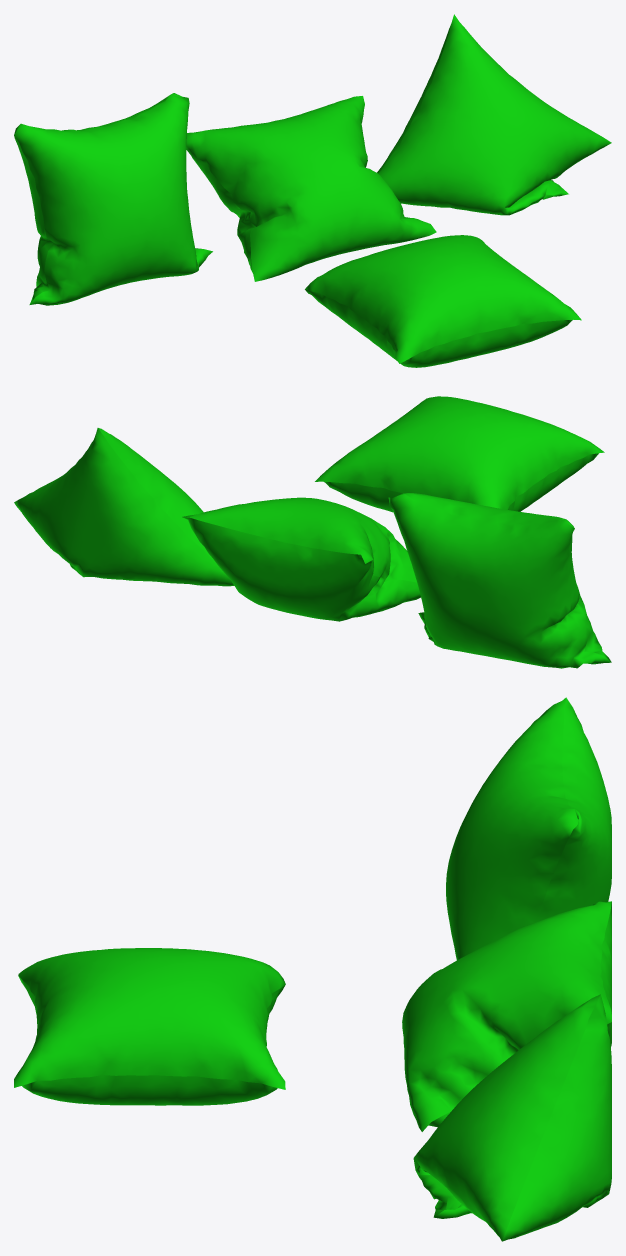
Rendered from Pillows.fbx.
3 views of the same model, one above another, from view 1: azimuth 30°, elevation 25°; view 2: azimuth 150°, elevation 25°; view 3: azimuth 270°, elevation 25° (orthographic). The views are drawn at different scales.
Parts seen in each view (by area): view 1: Pillow_1_2, Pillow_1_3, Pillow_1_4, Pillow_1_1; view 2: Pillow_1_2, Pillow_1_1, Pillow_1_3, Pillow_1_4; view 3: Pillow_1_1, Pillow_1_4, Pillow_1_2, Pillow_1_3.
Boxes of the visible parts, left/top/right/bottom form: Pillow_1_2: left=14, top=93, right=212, bottom=305; Pillow_1_3: left=186, top=96, right=436, bottom=281; Pillow_1_4: left=377, top=14, right=611, bottom=215; Pillow_1_1: left=305, top=235, right=581, bottom=367; Pillow_1_2: left=388, top=493, right=611, bottom=668; Pillow_1_1: left=315, top=396, right=604, bottom=512; Pillow_1_3: left=182, top=497, right=420, bottom=621; Pillow_1_4: left=14, top=428, right=234, bottom=586; Pillow_1_1: left=14, top=948, right=285, bottom=1105; Pillow_1_4: left=413, top=994, right=611, bottom=1241; Pillow_1_2: left=446, top=697, right=611, bottom=960; Pillow_1_3: left=402, top=901, right=611, bottom=1131.
Bounding box in the file's own units: 186 × 47.96 × 126.
